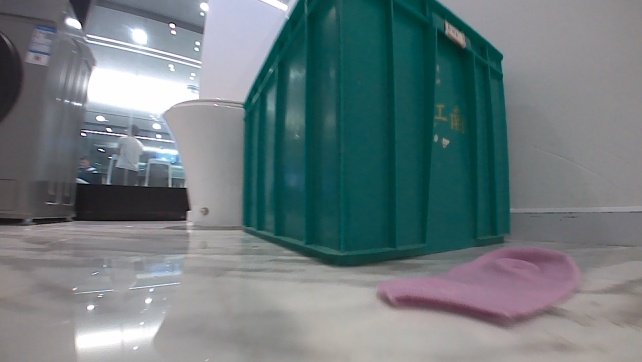socks: (374, 240, 584, 330)
toilet: (155, 94, 252, 231)
washing_machine1: (0, 0, 100, 229)
